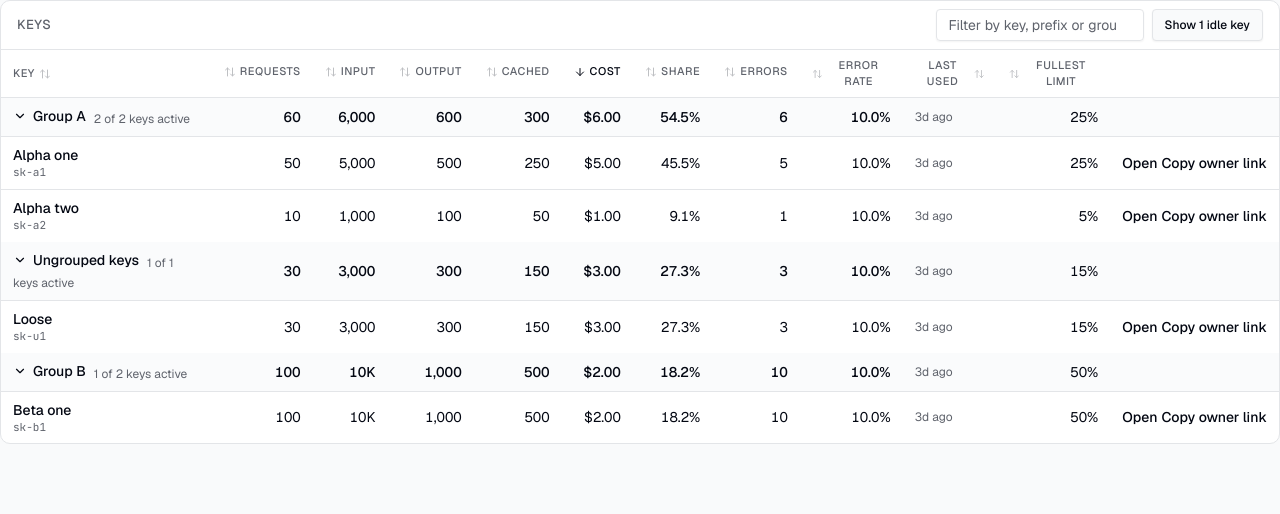
Scenario: PerKeyTable › renders keys grouped by group with subtotals, links and limits, hiding idle keys
The width and height of the screenshot is (1280, 514).
Expected: the heading "Keys" is shown, 17,15 -> 51,35
Expected: the row with test id "per-key-subtotal" shows "2 of 2 keys active", 94,111 -> 190,127
Step 1. Click the button "Show 1 idle key" → (1207, 25), box 1152,9 -> 1263,41
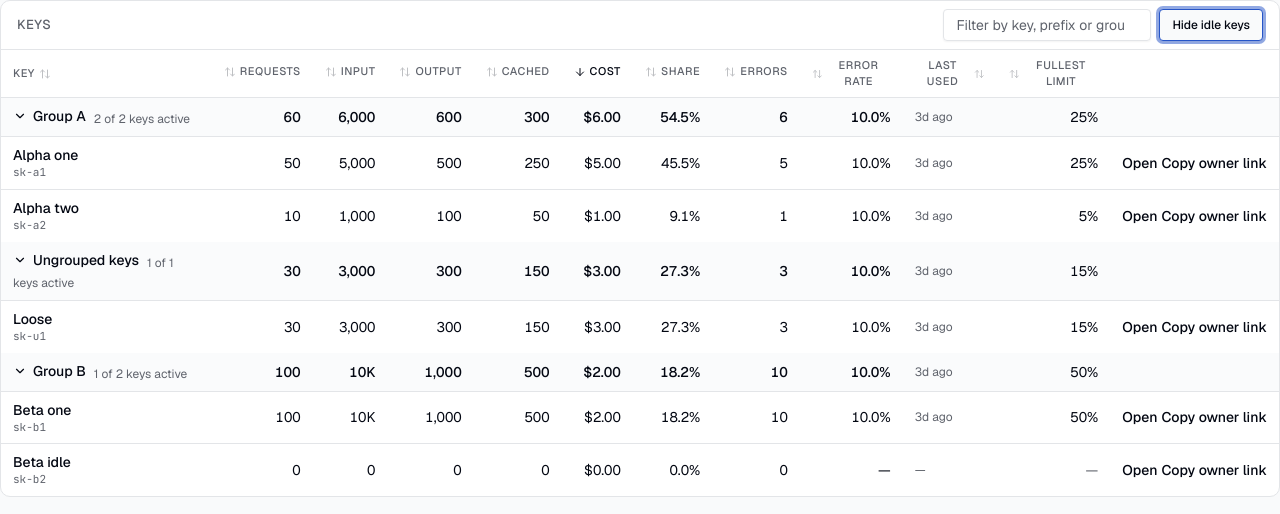
Expected: the link "Beta idle" is shown, 13,453 -> 71,471
Step 2. Click the button "Hide idle keys" → (1211, 25), box 1159,9 -> 1263,41
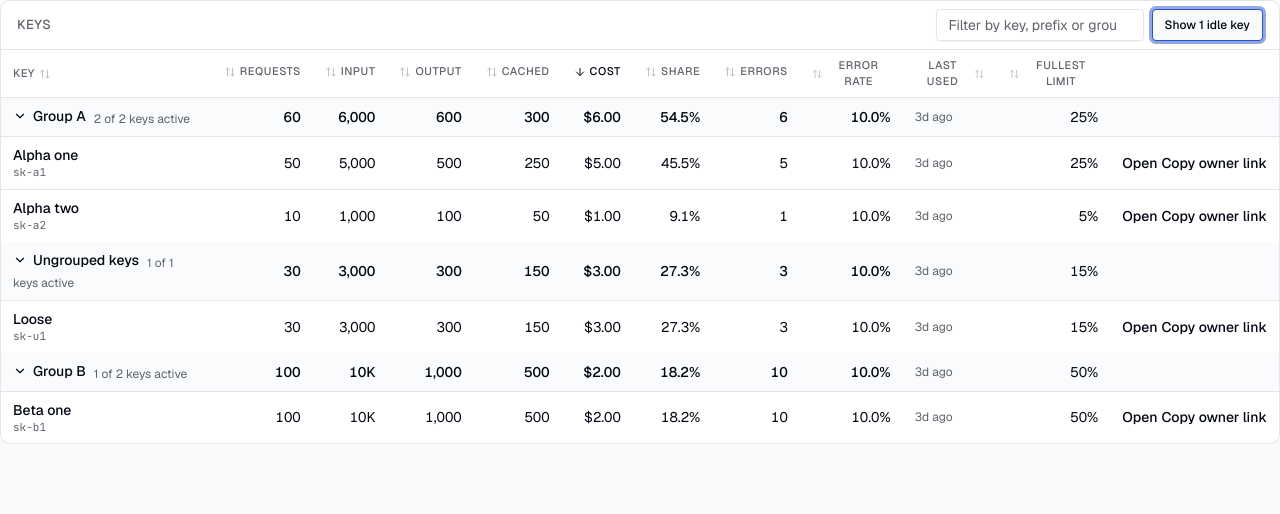
Expected: the link "Beta idle" no longer shows "Beta idle"
